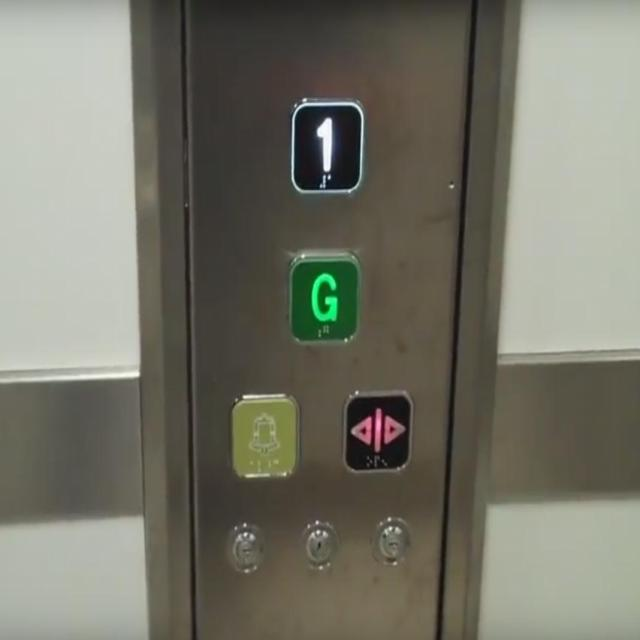1: (289, 95, 364, 195)
G: (284, 247, 364, 351)
alarm: (227, 389, 302, 482)
keyhole: (297, 518, 339, 572), (369, 515, 411, 569), (225, 521, 266, 575)
open: (340, 386, 415, 478)
